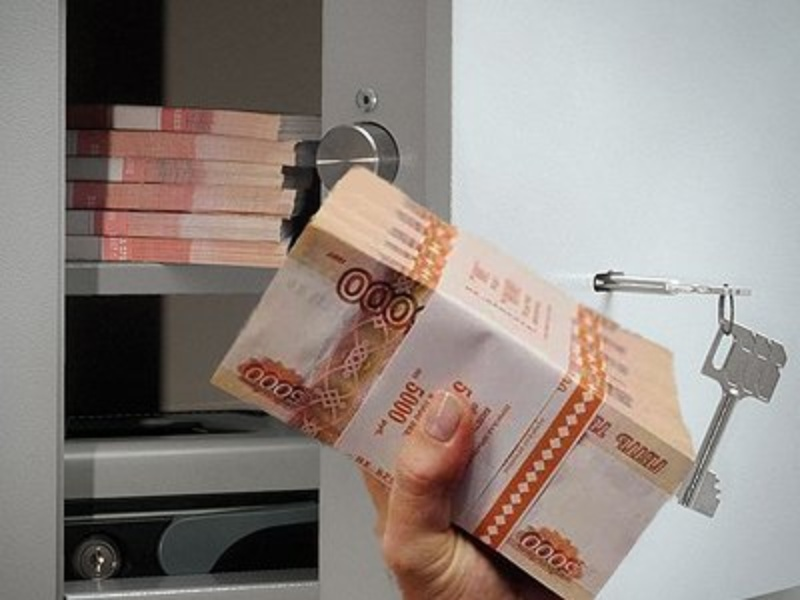cash: (209, 163, 696, 600), (66, 105, 323, 268)
